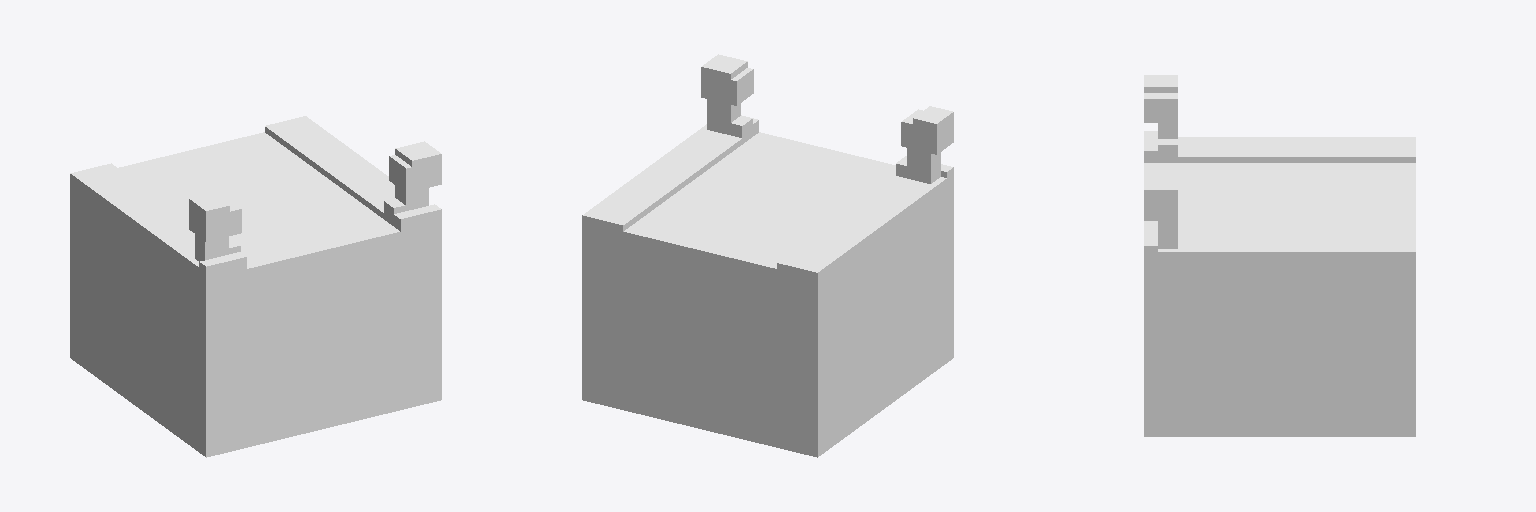
File: bumble2.obj
The picture shows the model from 3 angles: view 1: azimuth 30°, elevation 25°; view 2: azimuth 150°, elevation 25°; view 3: azimuth 270°, elevation 25°; orthographic projection.
Visible parts, largest first — view 1: object 1; view 2: object 1; view 3: object 1.
Boxes of the visible parts, box(x1,y1,x2,y2) form: object 1: box(70, 116, 441, 457); object 1: box(582, 54, 953, 457); object 1: box(1144, 75, 1415, 436).
Size of the model in its own units: 4 by 4 by 4.